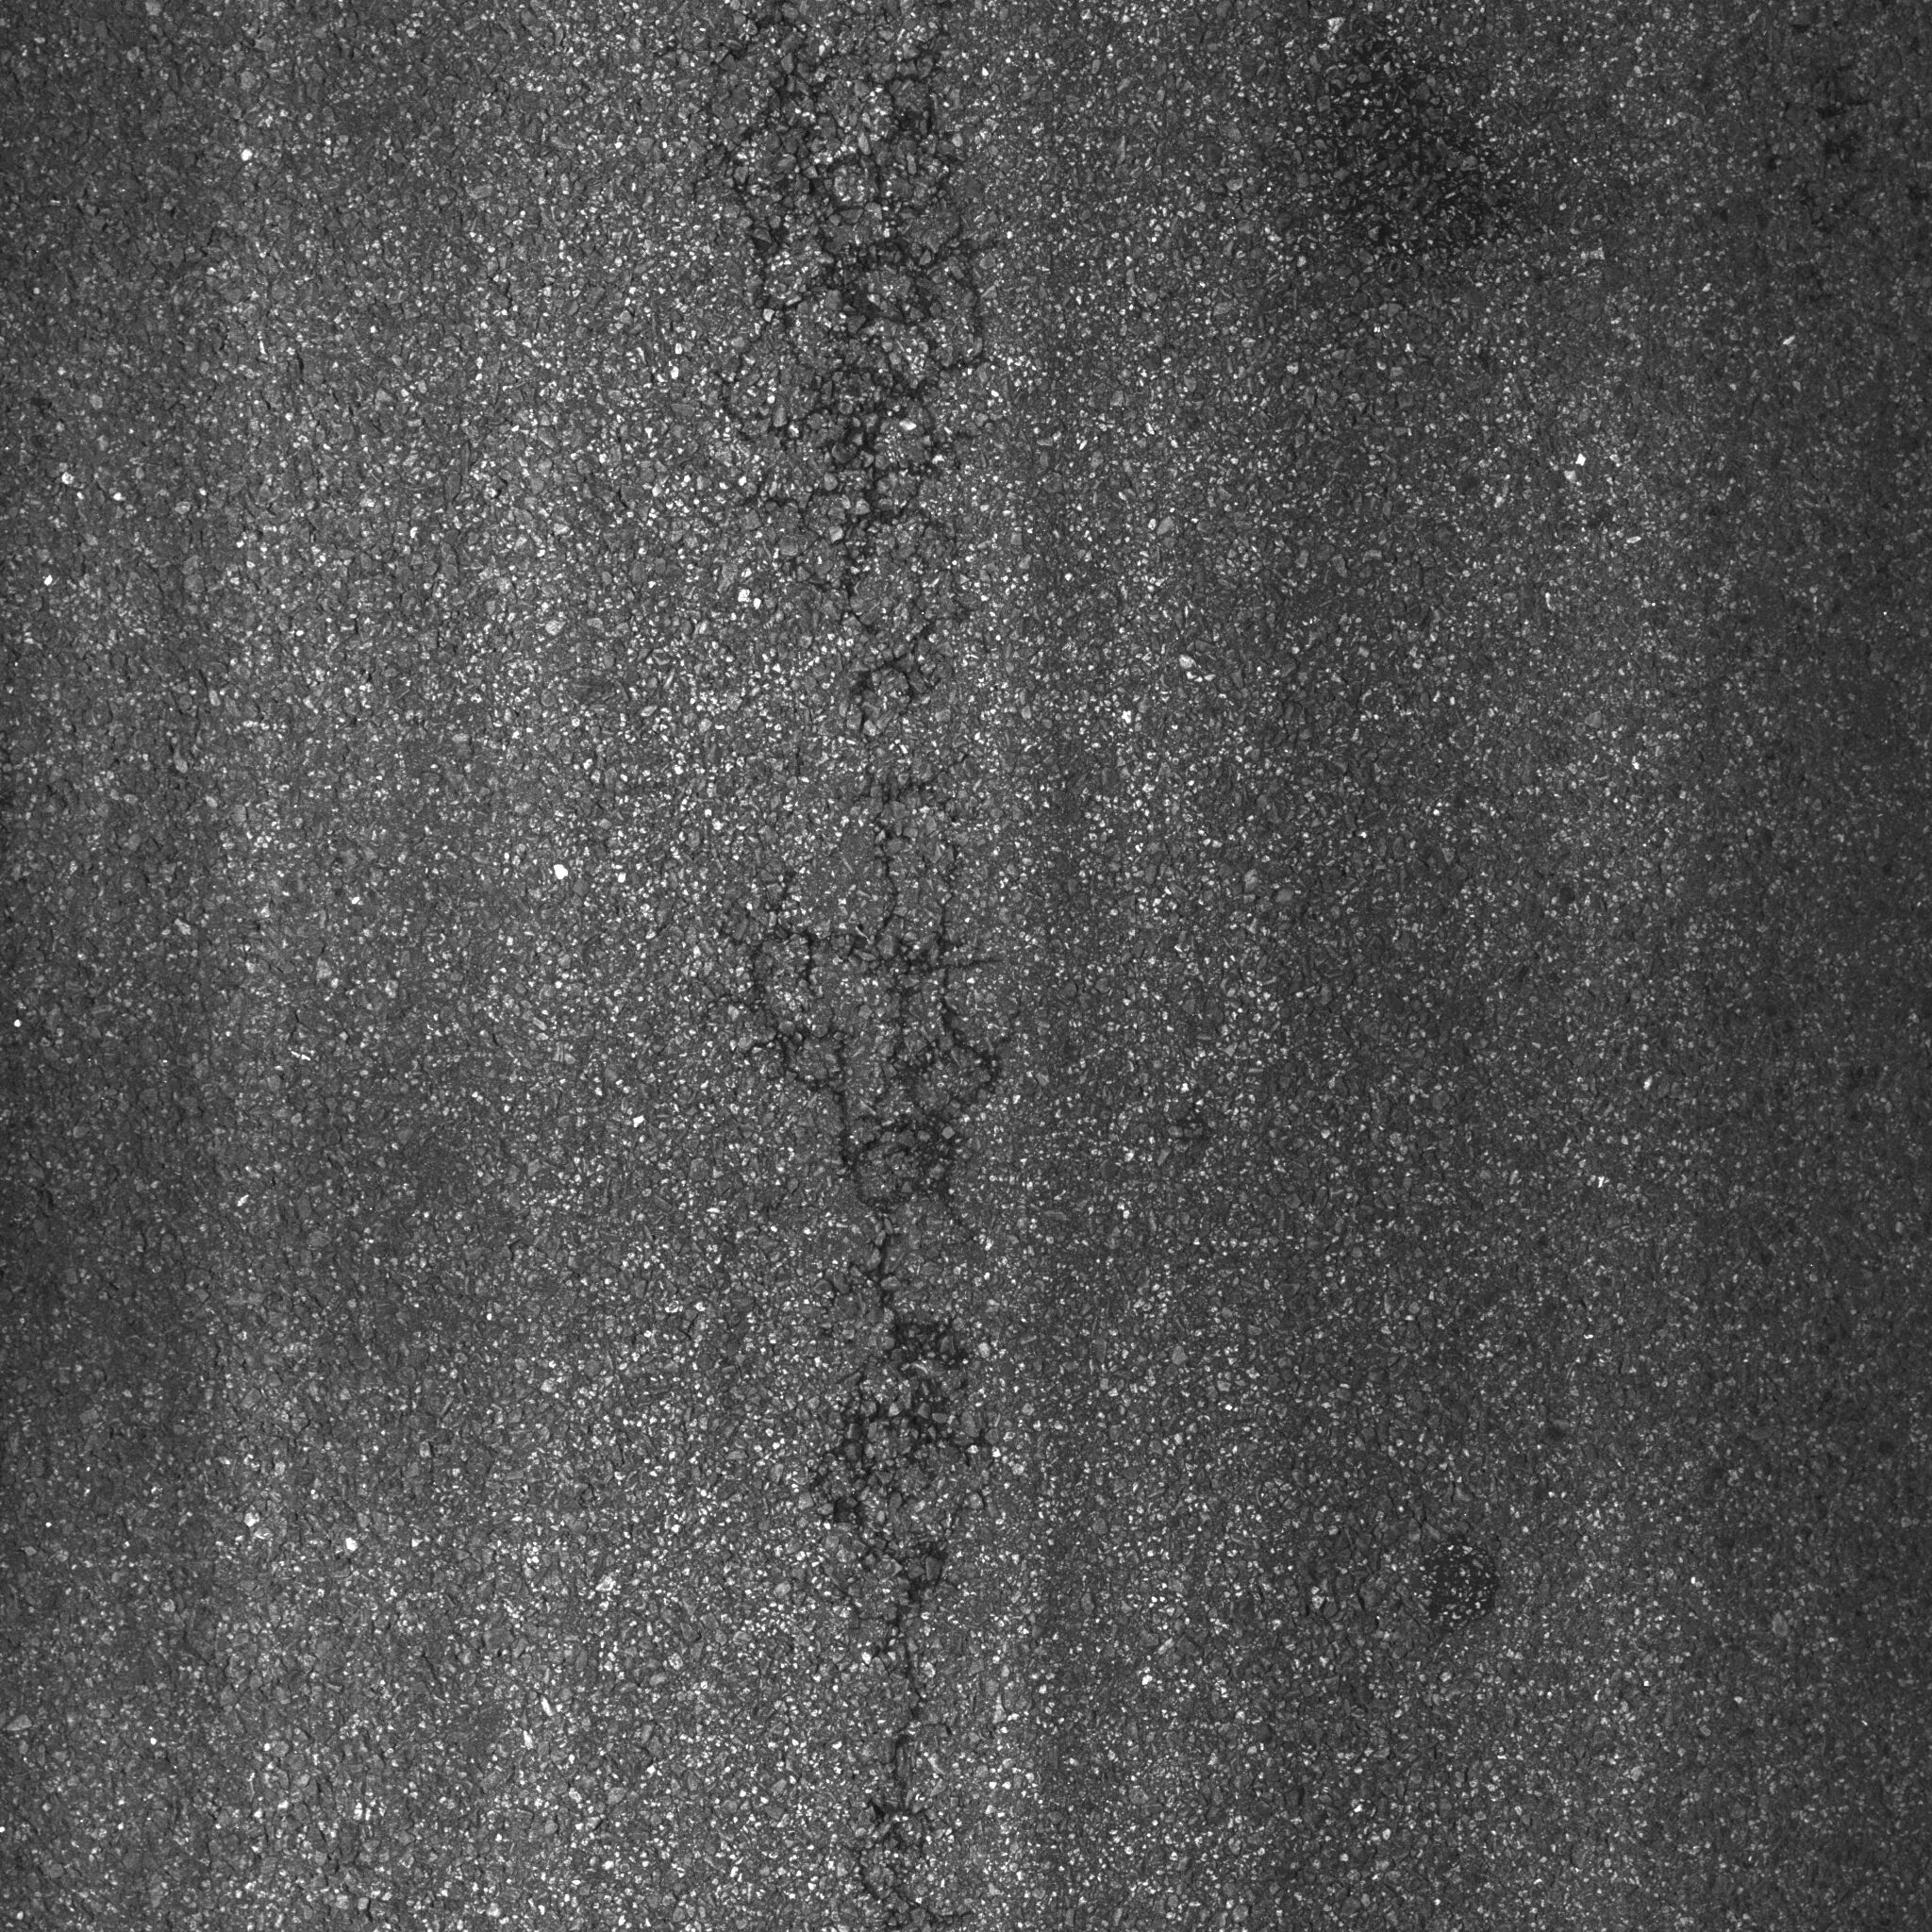alligator: (646, 4, 1139, 1932)
